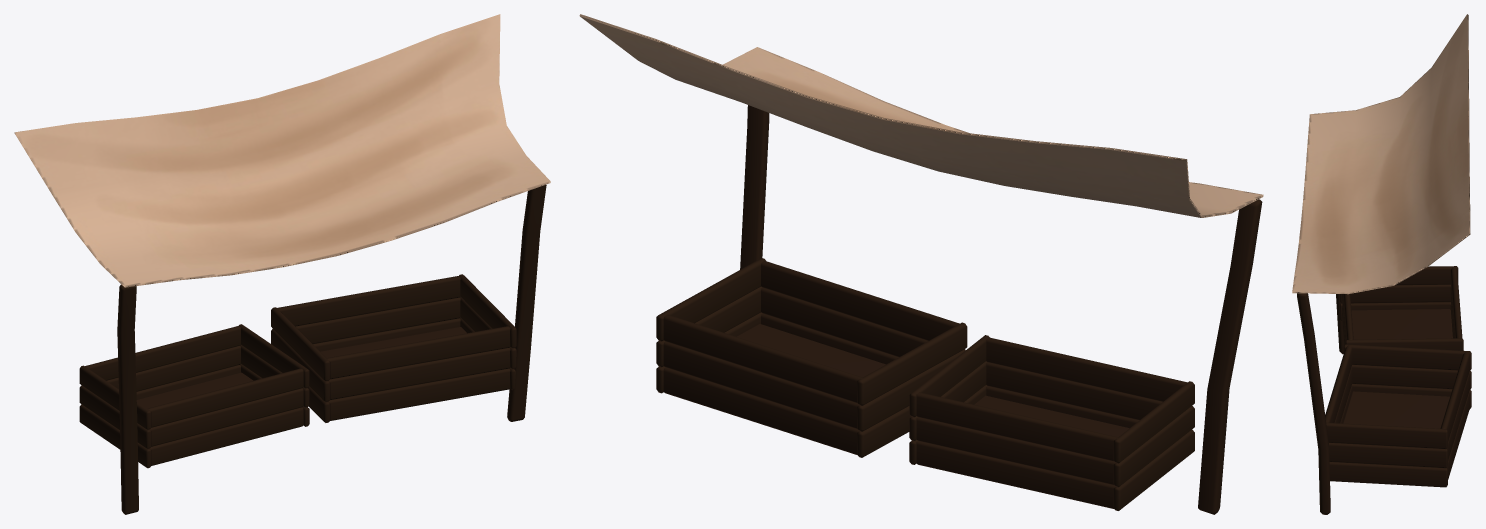
Rendered from stand_model.glb.
3 views of the same model, side by side, from view 1: azimuth 30°, elevation 25°; view 2: azimuth 150°, elevation 25°; view 3: azimuth 270°, elevation 25° (orthographic). The views are drawn at different scales.
Parts seen in each view (by area): view 1: stand_t3; view 2: stand_t3; view 3: stand_t3.
Part boxes in pixels (x1,y1,x2,y2): stand_t3: (14, 14, 550, 514); stand_t3: (579, 14, 1263, 514); stand_t3: (1292, 14, 1471, 514).
Size of what is drawn, in the model's own units: 5.93 by 4 by 2.06.
Materials: 1 (1 with a texture image).
